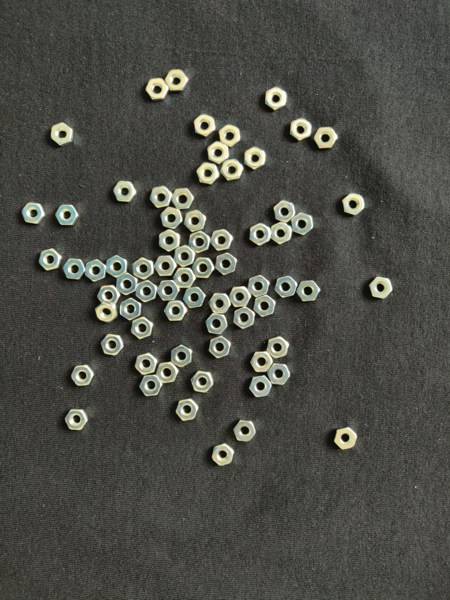nut: (51, 123, 74, 147), (335, 427, 358, 451), (176, 398, 199, 422), (146, 78, 169, 101), (197, 162, 220, 185), (343, 193, 366, 216), (39, 248, 62, 271), (208, 336, 231, 359), (267, 336, 290, 359), (249, 375, 272, 398), (165, 70, 189, 92), (265, 87, 287, 111), (207, 141, 229, 165), (189, 230, 211, 254), (274, 276, 298, 298), (65, 409, 89, 431), (267, 363, 291, 385), (212, 443, 234, 467), (21, 203, 46, 224), (194, 114, 216, 137), (290, 118, 312, 141), (220, 125, 242, 148), (113, 180, 136, 202), (150, 186, 173, 208), (172, 188, 195, 210), (274, 200, 296, 223), (271, 222, 293, 245), (249, 223, 271, 246), (161, 207, 183, 230), (184, 210, 206, 233), (159, 229, 181, 252), (174, 245, 196, 268), (135, 281, 158, 303), (116, 273, 138, 296), (120, 298, 142, 321), (370, 277, 393, 299), (248, 275, 270, 298), (205, 313, 228, 335), (131, 317, 153, 340), (101, 334, 124, 356), (71, 364, 94, 386), (135, 353, 158, 375), (156, 362, 179, 384), (251, 351, 274, 373), (233, 420, 256, 442), (314, 127, 338, 148), (297, 281, 321, 302), (183, 287, 207, 308), (221, 159, 243, 181), (292, 213, 314, 235), (211, 229, 233, 251), (63, 258, 85, 280), (215, 253, 237, 275), (96, 301, 118, 323), (254, 295, 276, 317), (234, 307, 256, 329), (192, 371, 214, 393), (245, 147, 266, 170), (85, 259, 106, 282), (106, 255, 127, 278), (133, 257, 154, 280), (157, 280, 180, 301), (171, 345, 192, 368), (140, 375, 163, 396), (173, 268, 197, 288), (164, 301, 188, 321), (155, 255, 177, 276), (229, 287, 251, 308), (209, 293, 231, 314), (56, 205, 79, 225), (98, 285, 121, 305), (193, 257, 214, 278)
